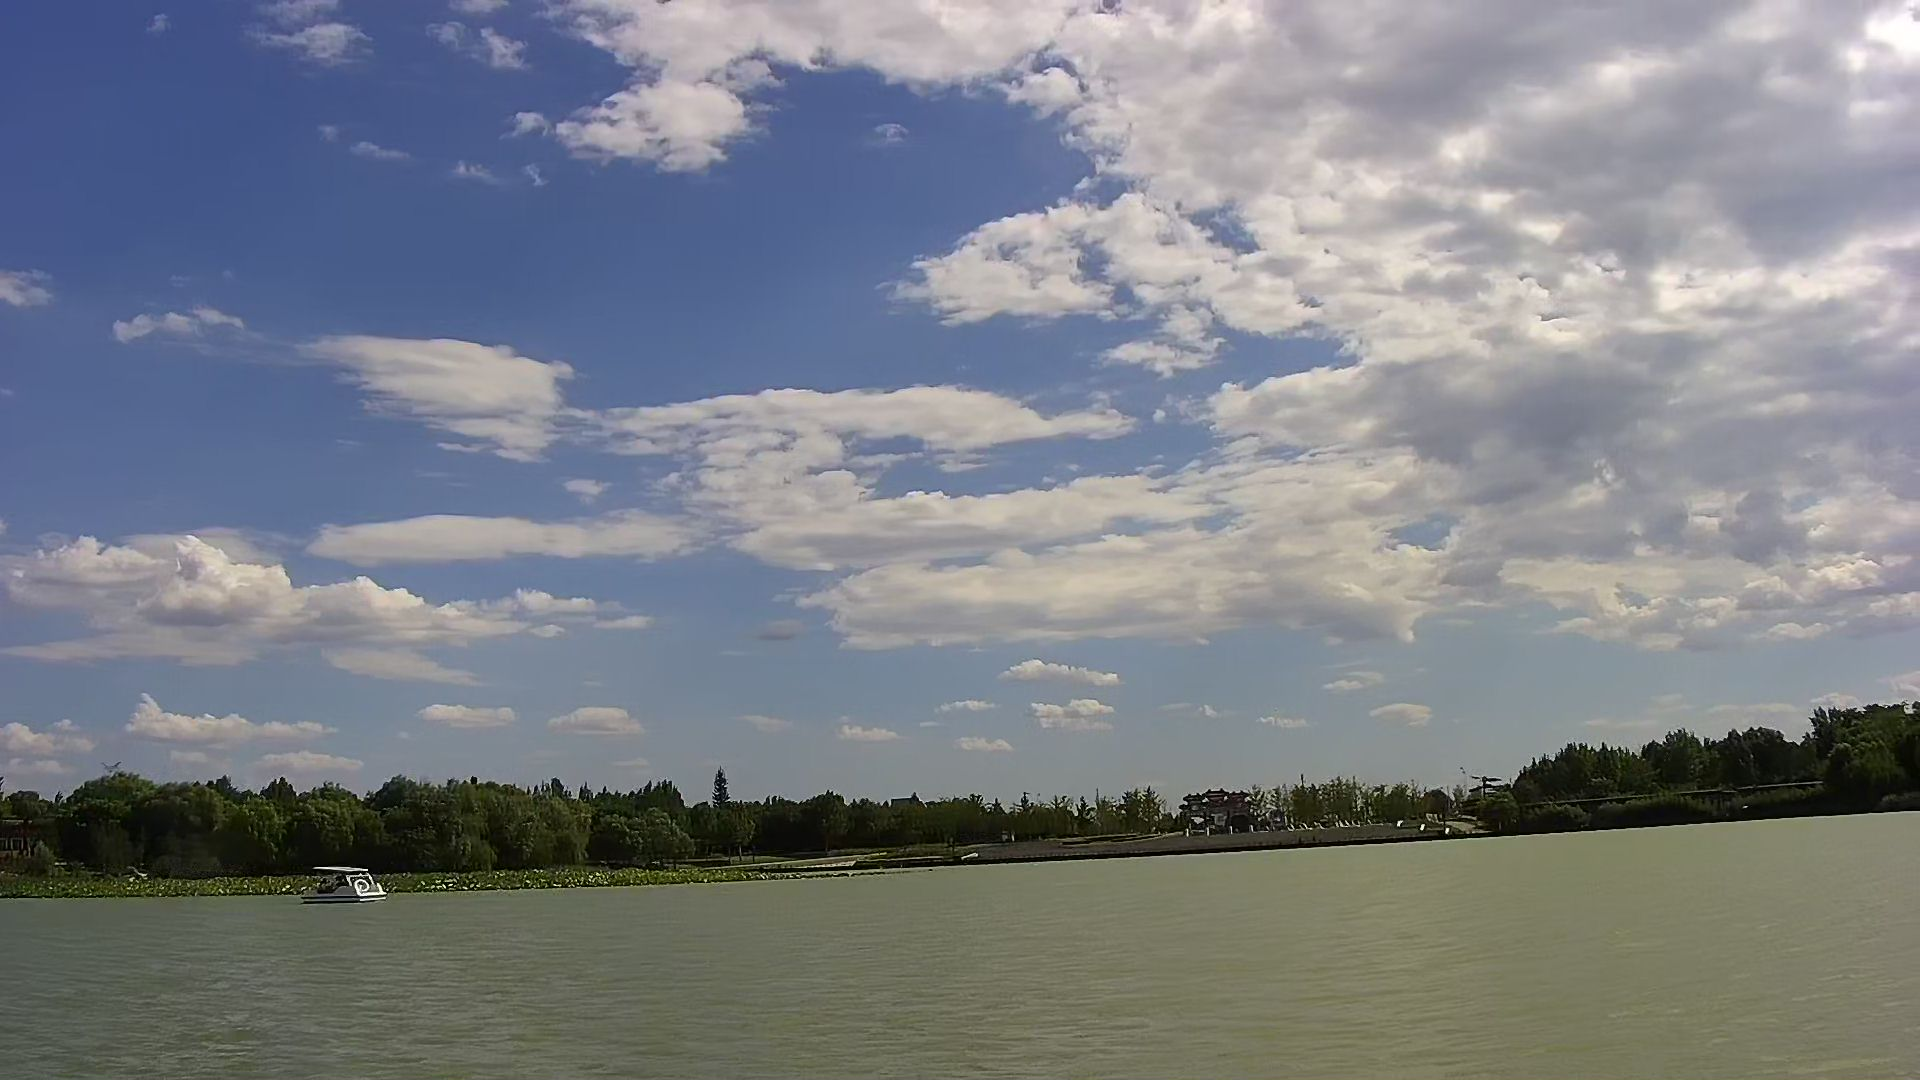boat: (301, 860, 386, 909)
